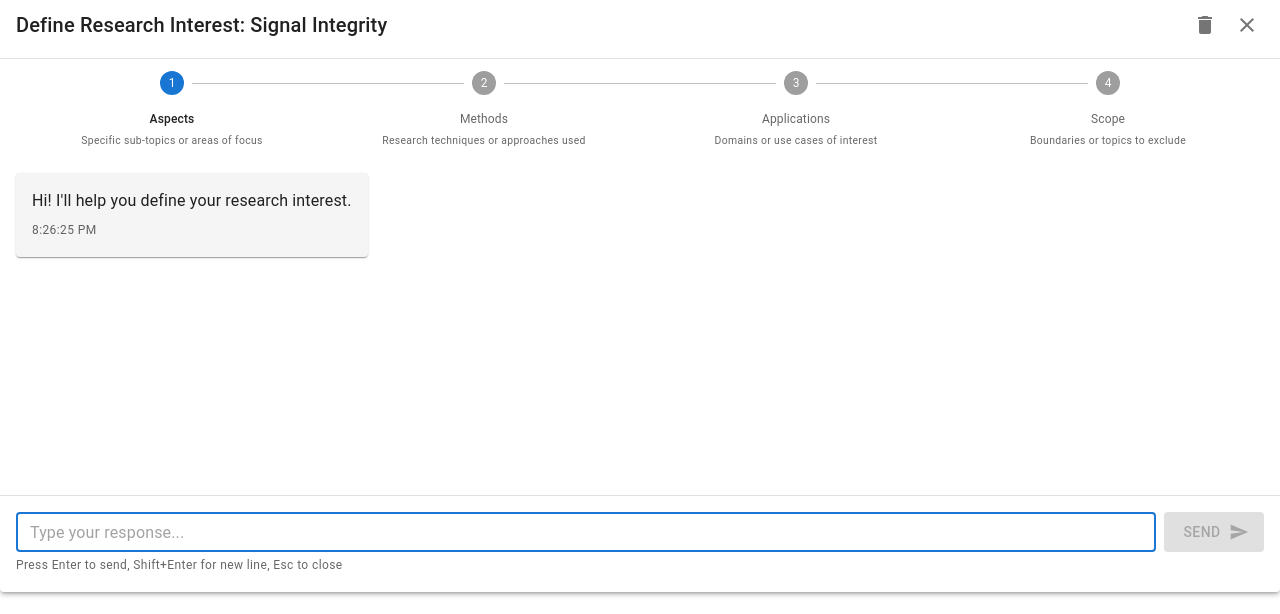
Test: ChatbotUI Accessibility › Keyboard Navigation (Task 3.1) › should send message when Enter key is pressed
// Type message
In the text box with placeholder "Type your response...": (586, 532) [30,521,1142,544], type "Test message"
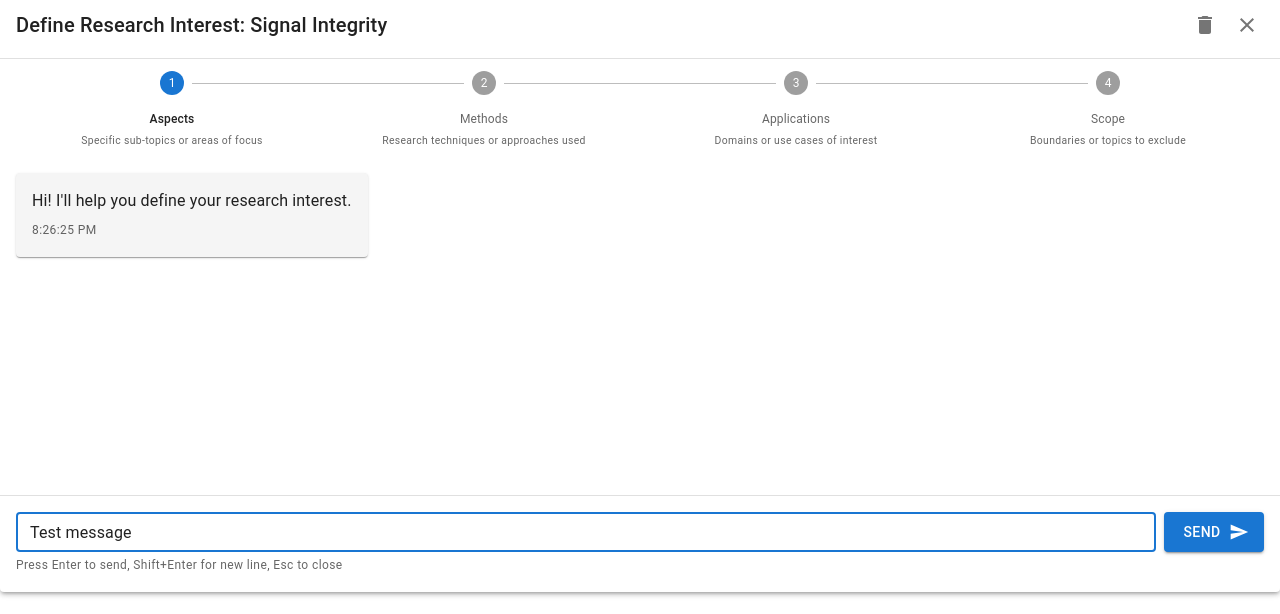
// Press Enter
Press Enter in the text box with placeholder "Type your response...", box [30,521,1142,544]
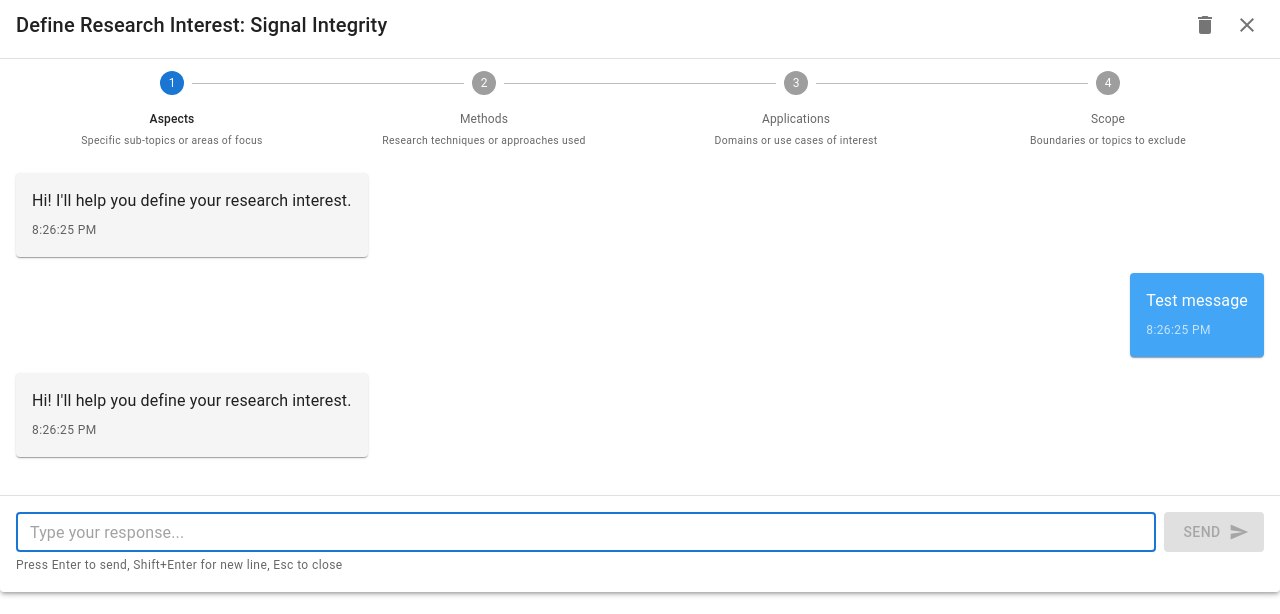
Check: the text "Test message" is shown, box [1146,289,1248,313]
